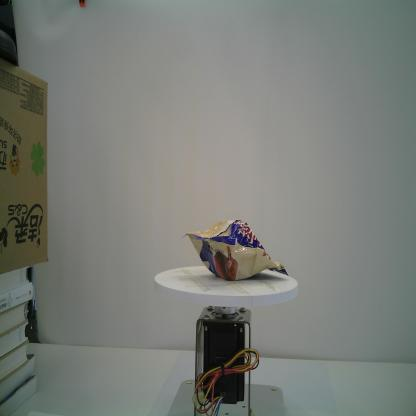Dessert: (181, 218, 289, 281)
